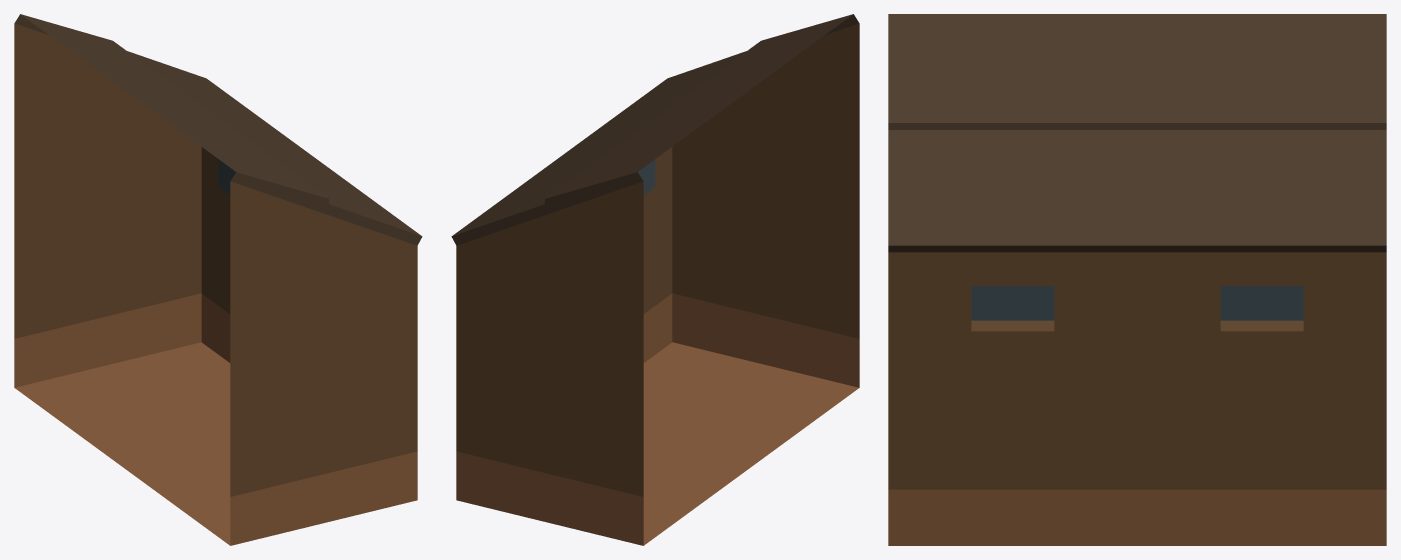
The model's file is western_scheriff-jail-western.fbx.
3 views of the same model, side by side, from view 1: azimuth 30°, elevation 25°; view 2: azimuth 150°, elevation 25°; view 3: azimuth 270°, elevation 25° (orthographic). The views are drawn at different scales.
Parts seen in each view (by area): view 1: western_scheriff_jail_western; view 2: western_scheriff_jail_western; view 3: western_scheriff_jail_western.
Part boxes in pixels (<box>): western_scheriff_jail_western: <box>14,14,422,545</box>; western_scheriff_jail_western: <box>451,14,859,545</box>; western_scheriff_jail_western: <box>888,14,1386,545</box>.
Bounding box in the file's own units: 86.37 × 160 × 168.
